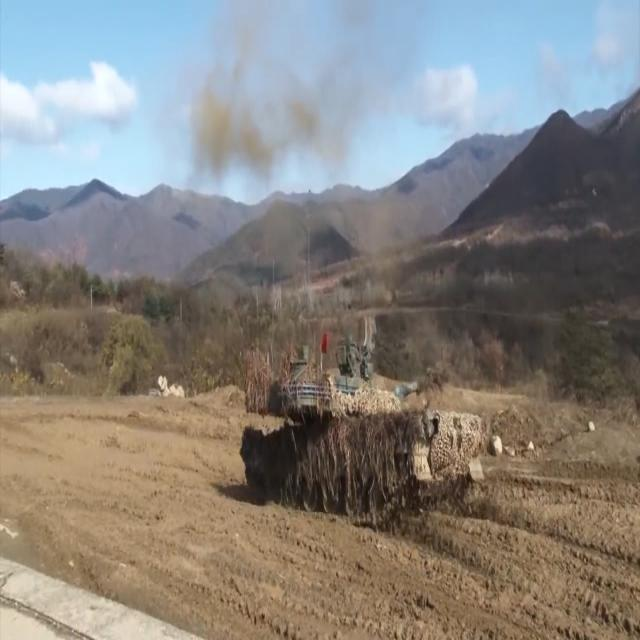korea tank: (239, 327, 487, 530)
